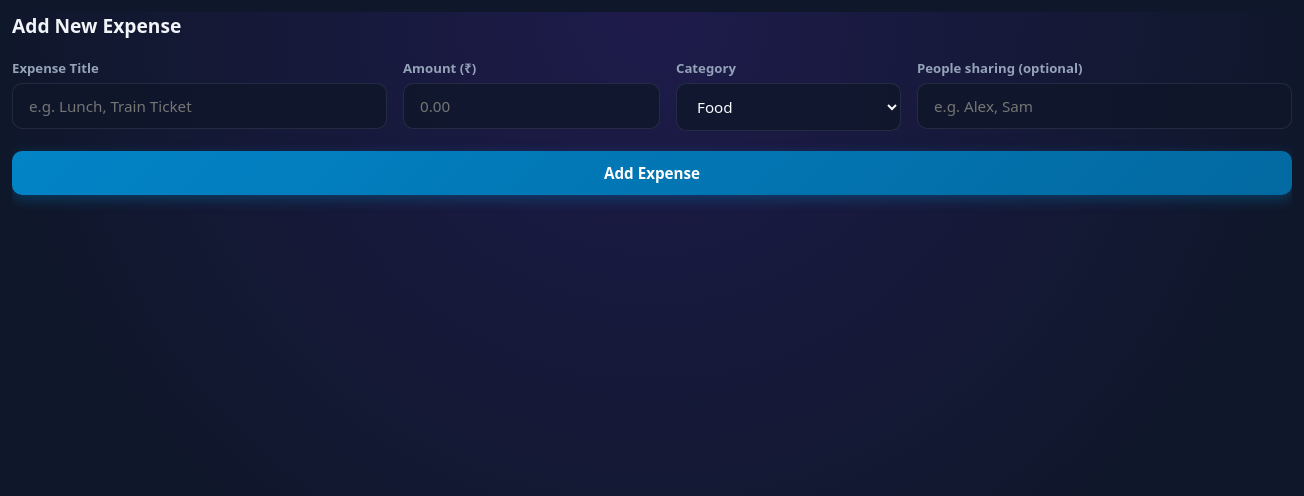
Test: Expense Tracker: Component & Integration Suite › ExpenseForm Hand-Written Tests › Hand-written Test 1: adds a valid expense and resets fields
This screenshot has width=1304, height=496.
In the field labelled "Expense Title": point(200, 106) x1=12 y1=83 x2=387 y2=129, type "Dinner with Friends"
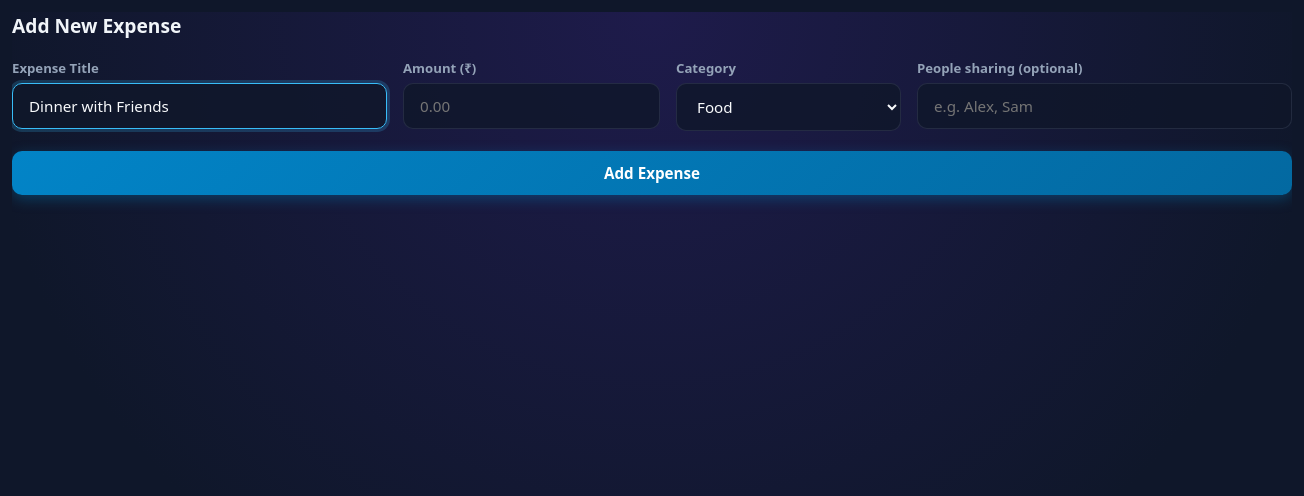
In the number field labelled "Amount (₹)": point(532, 106) x1=403 y1=83 x2=660 y2=129, type "850.50"
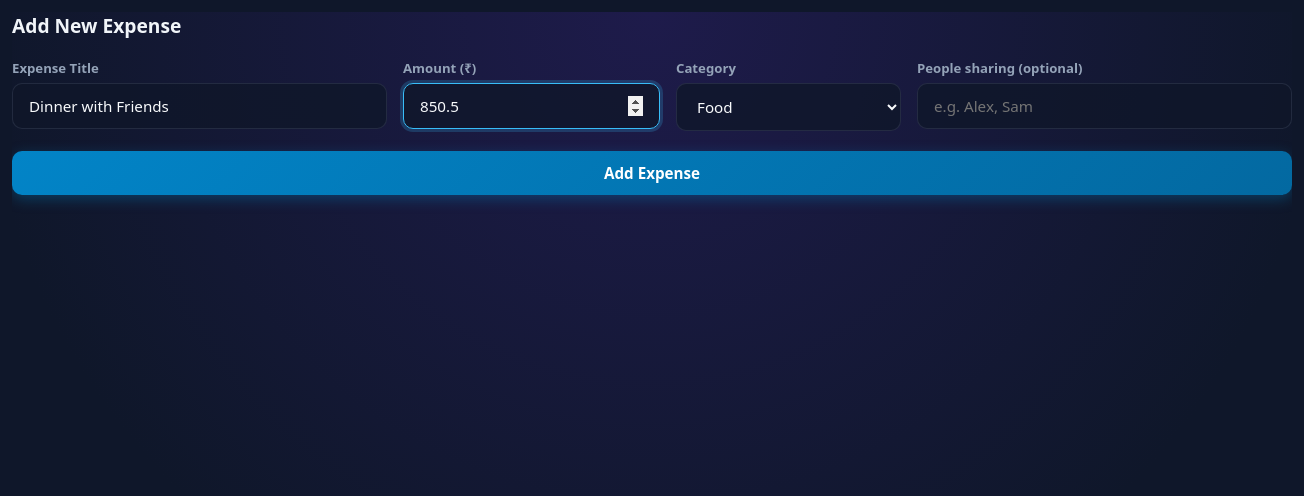
Select "Food" in the dropdown labelled "Category": point(788, 107) x1=676 y1=83 x2=901 y2=131
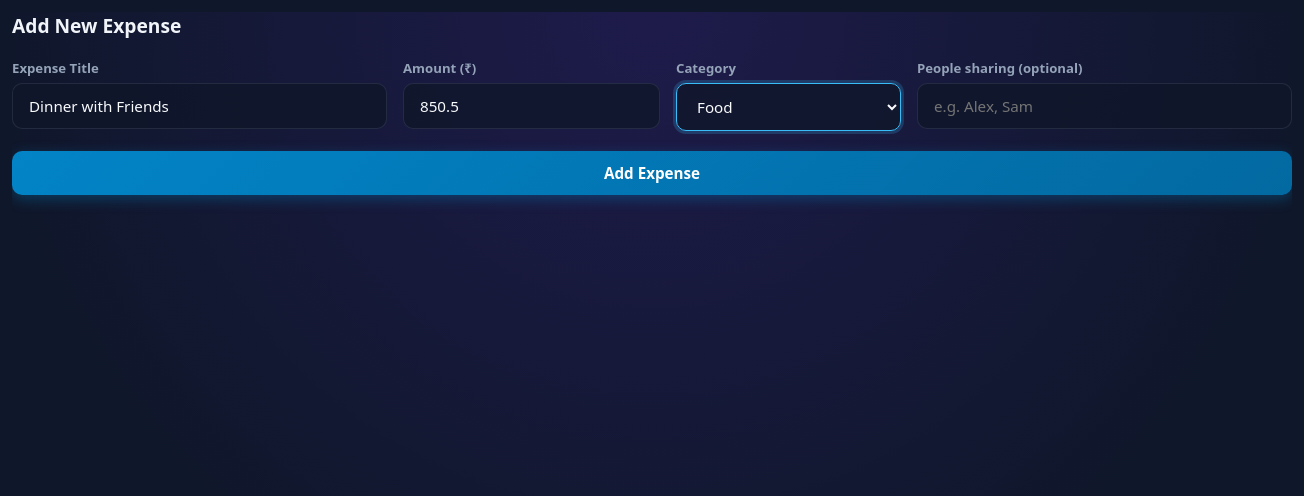
Click the button "Add Expense": point(652, 173) x1=12 y1=151 x2=1292 y2=195
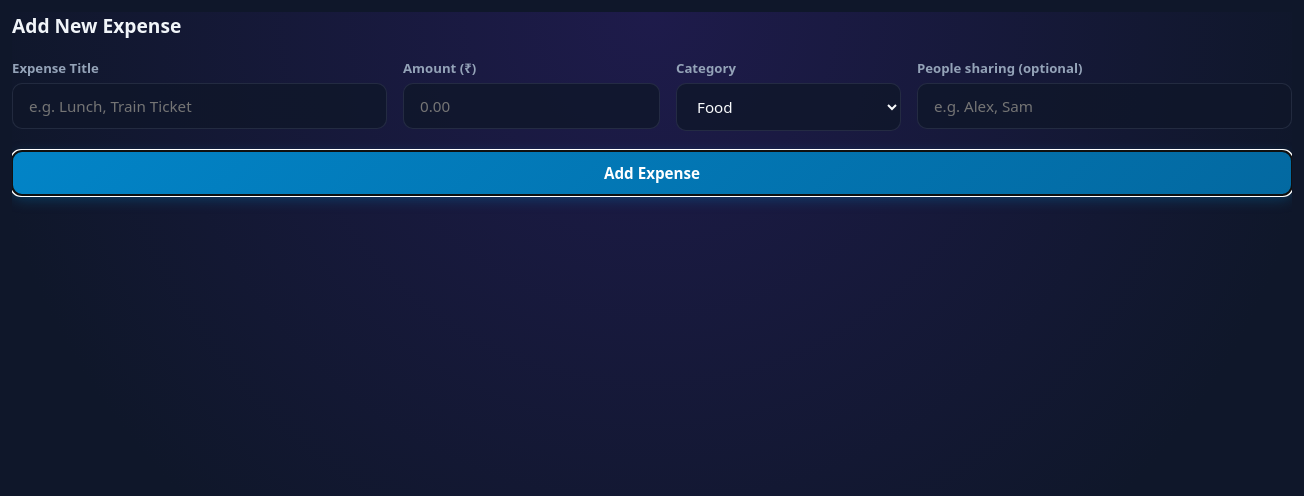
Expected: the field labelled "Expense Title" is empty, x1=12 y1=83 x2=387 y2=129
Expected: the number field labelled "Amount (₹)" is not empty, x1=403 y1=83 x2=660 y2=129
